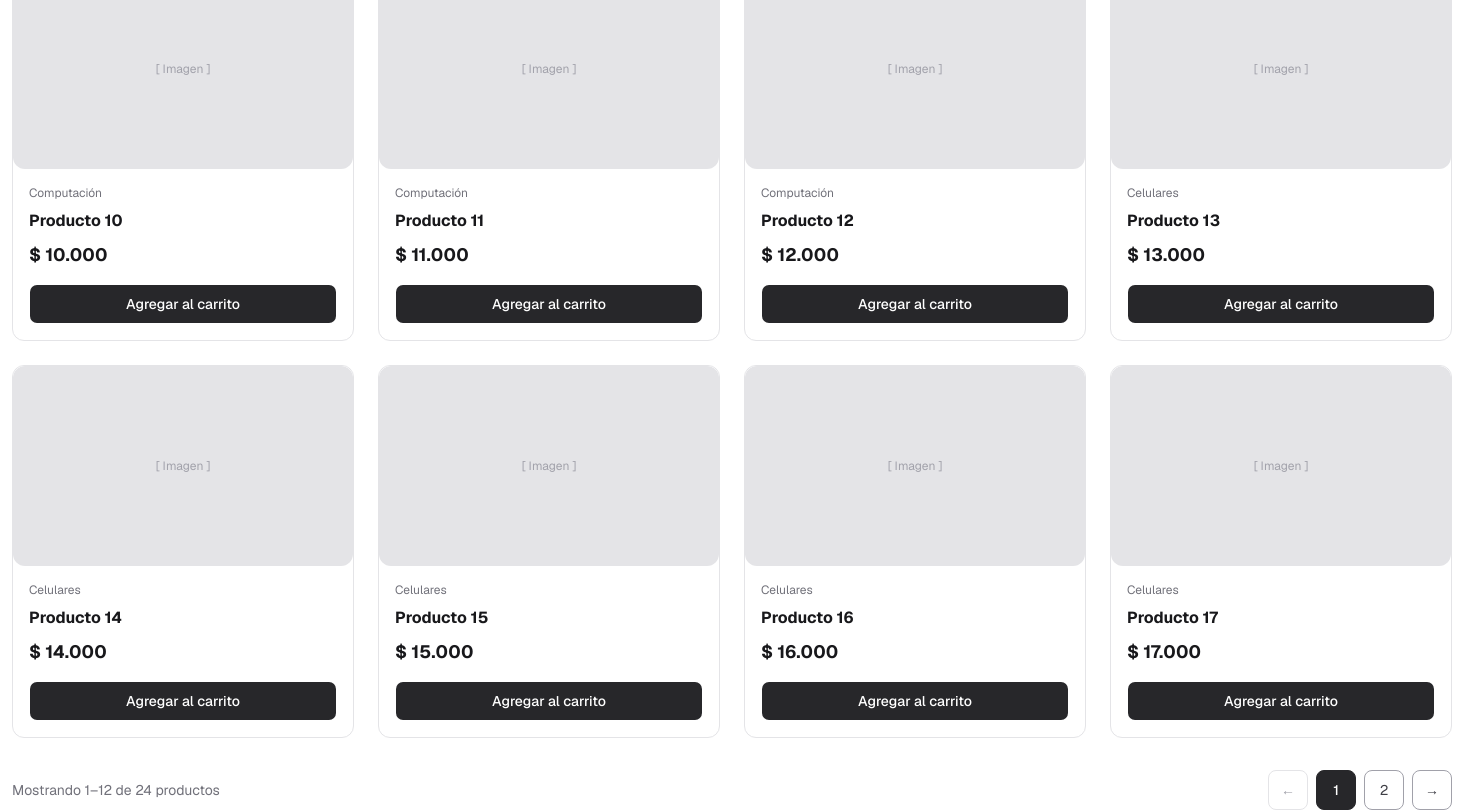
Test case: CategoryProducts › filters by subcategory and resets pagination
This screenshot has width=1464, height=810.
(page scrolled)
Click the button named "Página 2". click: {"x": 1384, "y": 790}
box: [1364,770,1404,809]
(page scrolled)
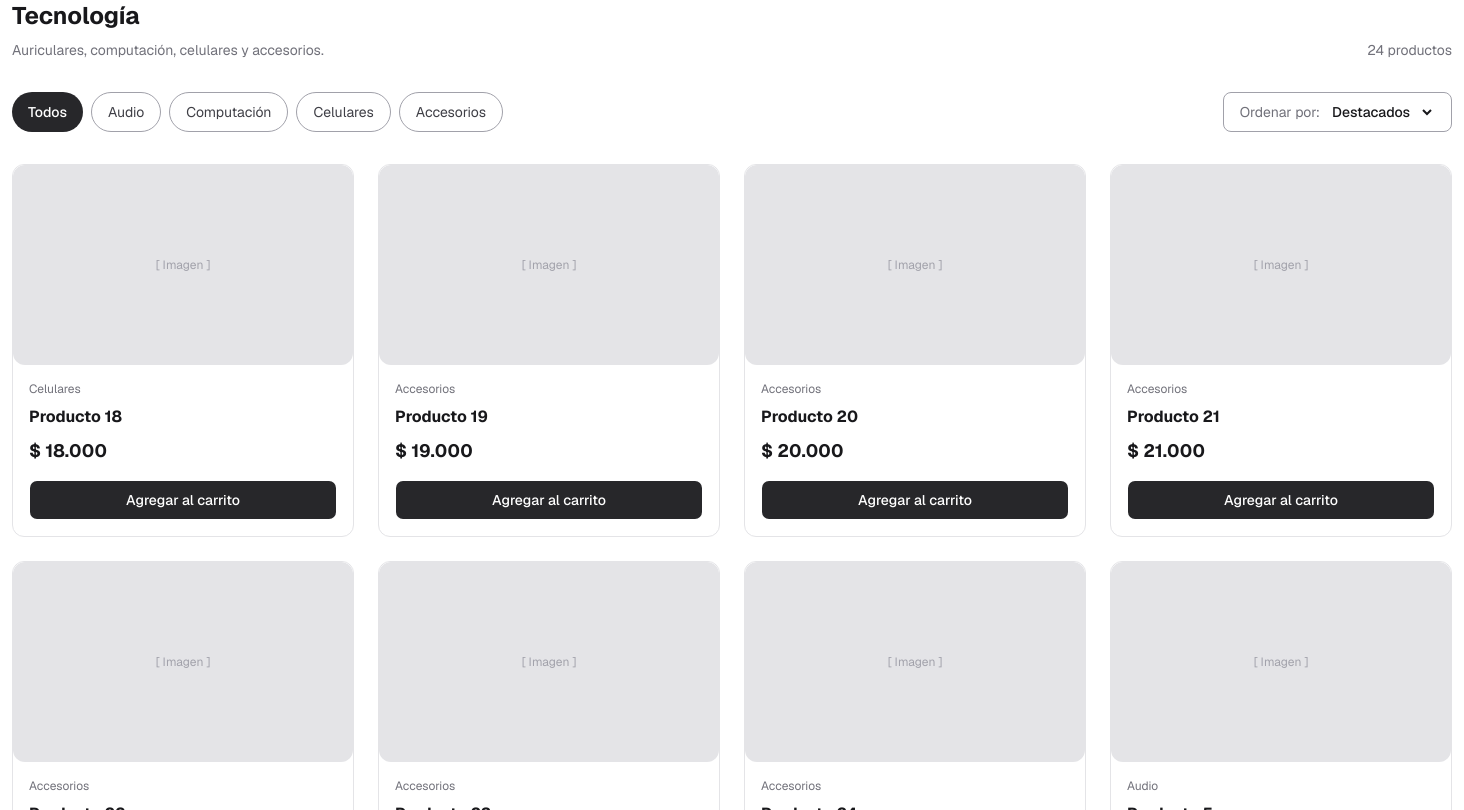
Click the button "Audio". click: {"x": 126, "y": 112}
box: [91,92,161,132]
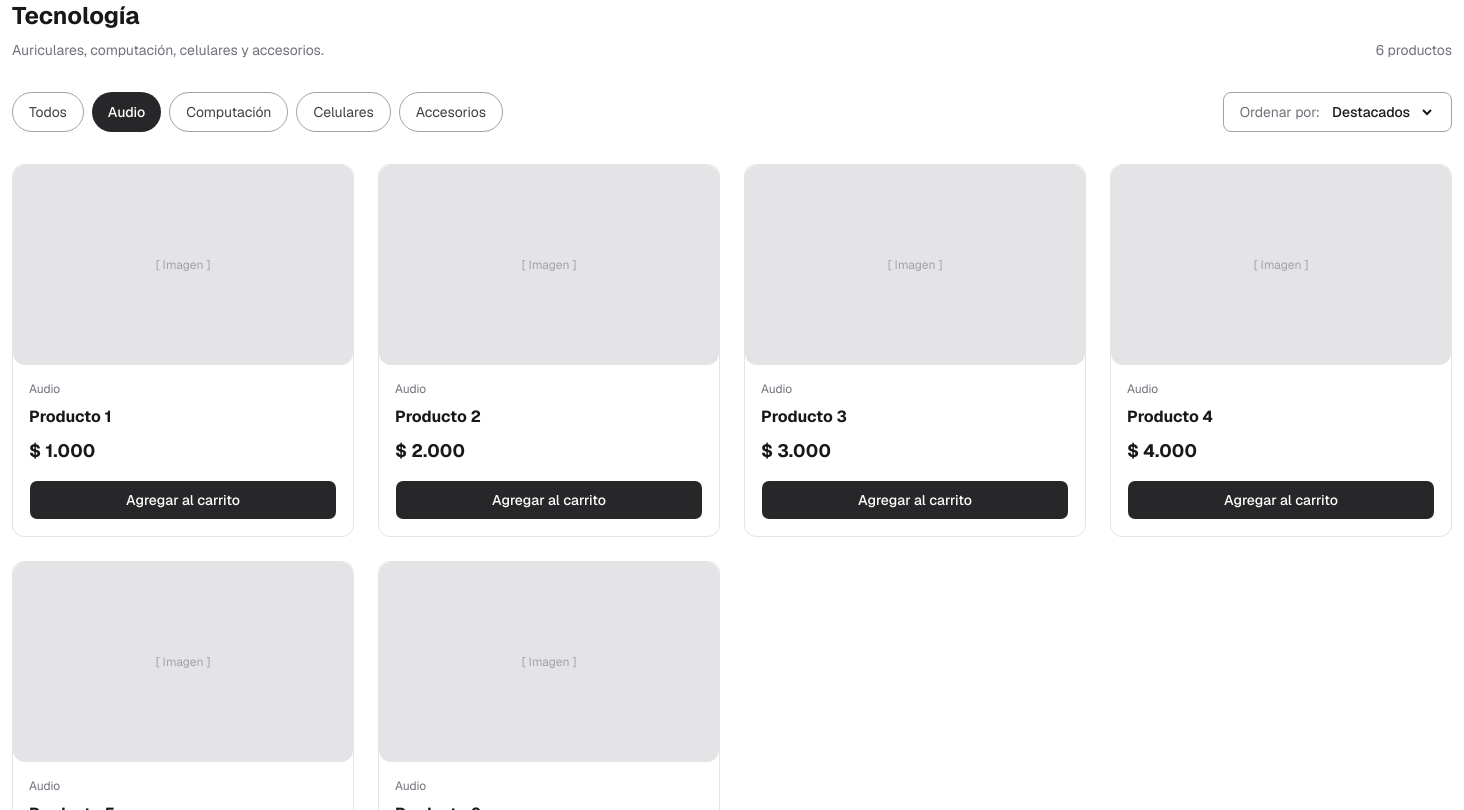
Expected: the link with aria-label "Producto 1" is shown, [13,165,353,365]
Expected: the text "6 productos" is shown, [1376,40,1452,60]
